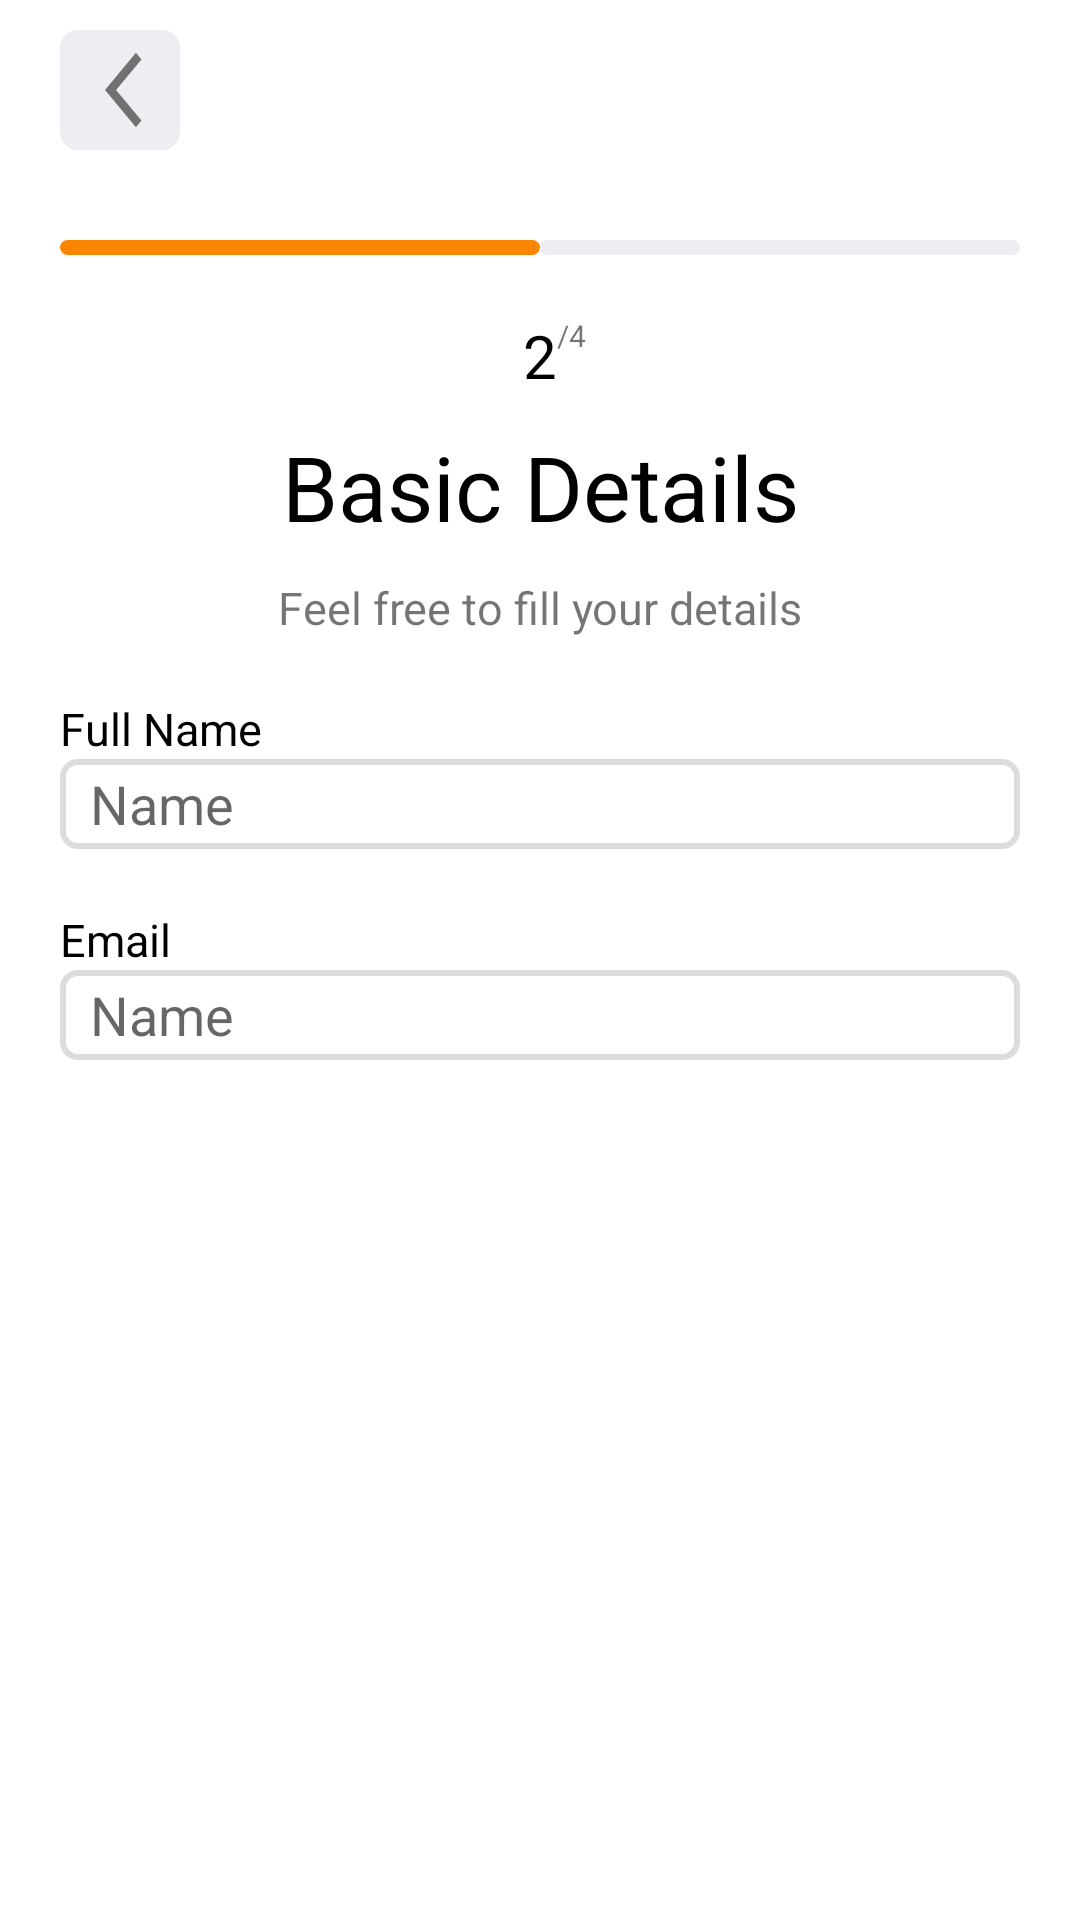

Where to tap for icons on this 1080×1920 app screen, as point (x, y):
back arrow: point (123, 90)
